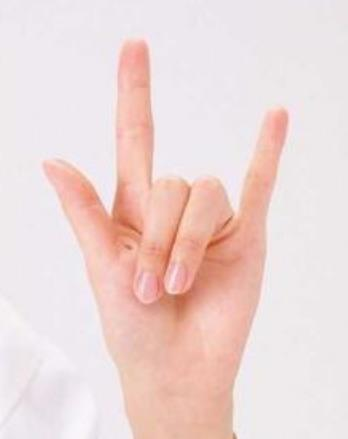back: (32, 26, 292, 380)
